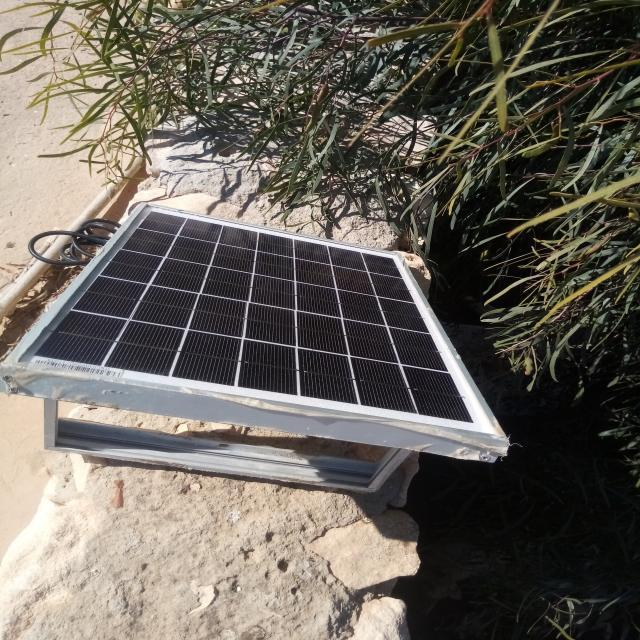Normal Solar Panel: (6, 205, 503, 440)
